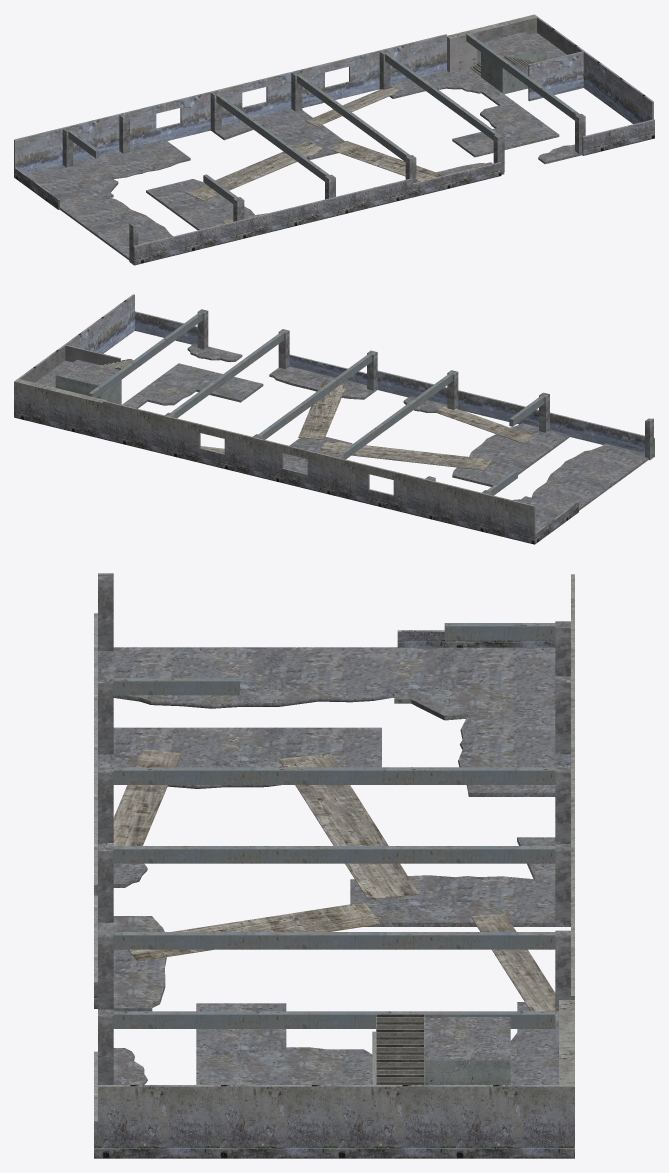
The model's file is Broken_House_04_Part.FBX.
The picture shows the model from 3 angles, top to bottom: view 1: azimuth 30°, elevation 25°; view 2: azimuth 150°, elevation 25°; view 3: azimuth 270°, elevation 25°; orthographic projection. The views are drawn at different scales.
Parts seen in each view (by area): view 1: Broken_House_04Floor_a, Broken_House_04Floor_F1, Broken_House_04Floor_rig, Broken_House_04Floor_F5, Broken_House_04Floor_walls, Broken_House_04Floor_column, Broken_House_04Floor_F3, Broken_House_04Floor_F2, Broken_House_04Floor_W1, Broken_House_04Floor_W2, Broken_House_04Floor_W4, Broken_House_04Floor_F6; view 2: Broken_House_04Floor_a, Broken_House_04Floor_rig, Broken_House_04Floor_F1, Broken_House_04Floor_F2, Broken_House_04Floor_F5, Broken_House_04Floor_walls, Broken_House_04Floor_column, Broken_House_04Floor_W1, Broken_House_04Floor_F4, Broken_House_04Floor_W2, Broken_House_04Floor_W3, Broken_House_04Floor_F3 (+1 smaller); view 3: Broken_House_04Floor_a, Broken_House_04Floor_rig, Broken_House_04Floor_F1, Broken_House_04Floor_column, Broken_House_04Floor_F5, Broken_House_04Floor_F2, Broken_House_04Floor_F3, Broken_House_04Floor_walls, Broken_House_04Floor_W1, Broken_House_04Floor_F4, Broken_House_04Floor_W2, Broken_House_04Floor_stair (+3 smaller).
Boxes of the visible parts, left/top/right/bottom form: Broken_House_04Floor_a: left=14, top=14, right=654, bottom=265; Broken_House_04Floor_F1: left=25, top=139, right=190, bottom=260; Broken_House_04Floor_rig: left=68, top=33, right=579, bottom=203; Broken_House_04Floor_F5: left=379, top=68, right=559, bottom=157; Broken_House_04Floor_walls: left=481, top=32, right=583, bottom=101; Broken_House_04Floor_column: left=62, top=50, right=585, bottom=264; Broken_House_04Floor_F3: left=210, top=108, right=344, bottom=159; Broken_House_04Floor_F2: left=146, top=179, right=254, bottom=230; Broken_House_04Floor_W1: left=186, top=141, right=326, bottom=200; Broken_House_04Floor_W2: left=330, top=141, right=444, bottom=181; Broken_House_04Floor_W4: left=305, top=86, right=400, bottom=126; Broken_House_04Floor_F6: left=538, top=144, right=582, bottom=164; Broken_House_04Floor_a: left=14, top=294, right=654, bottom=544; Broken_House_04Floor_rig: left=89, top=312, right=544, bottom=495; Broken_House_04Floor_F1: left=512, top=443, right=648, bottom=531; Broken_House_04Floor_F2: left=452, top=423, right=570, bottom=486; Broken_House_04Floor_F5: left=122, top=363, right=263, bottom=408; Broken_House_04Floor_walls: left=35, top=345, right=121, bottom=404; Broken_House_04Floor_column: left=165, top=309, right=653, bottom=494; Broken_House_04Floor_W1: left=319, top=440, right=491, bottom=470; Broken_House_04Floor_F4: left=269, top=366, right=377, bottom=399; Broken_House_04Floor_W2: left=298, top=383, right=346, bottom=439; Broken_House_04Floor_W3: left=433, top=405, right=535, bottom=443; Broken_House_04Floor_F3: left=283, top=436, right=351, bottom=473; Broken_House_04Floor_a: left=94, top=574, right=574, bottom=1158; Broken_House_04Floor_rig: left=113, top=623, right=555, bottom=1028; Broken_House_04Floor_F1: left=98, top=647, right=570, bottom=796; Broken_House_04Floor_column: left=98, top=573, right=570, bottom=1084; Broken_House_04Floor_F5: left=196, top=1002, right=558, bottom=1084; Broken_House_04Floor_F2: left=98, top=727, right=381, bottom=788; Broken_House_04Floor_F3: left=350, top=837, right=570, bottom=926; Broken_House_04Floor_walls: left=372, top=1017, right=510, bottom=1084; Broken_House_04Floor_W1: left=279, top=753, right=419, bottom=900; Broken_House_04Floor_F4: left=98, top=916, right=166, bottom=1011; Broken_House_04Floor_W2: left=128, top=902, right=382, bottom=961; Broken_House_04Floor_stair: left=376, top=1014, right=424, bottom=1084.
Size of the model in its own units: 2747 by 195 by 1098.
